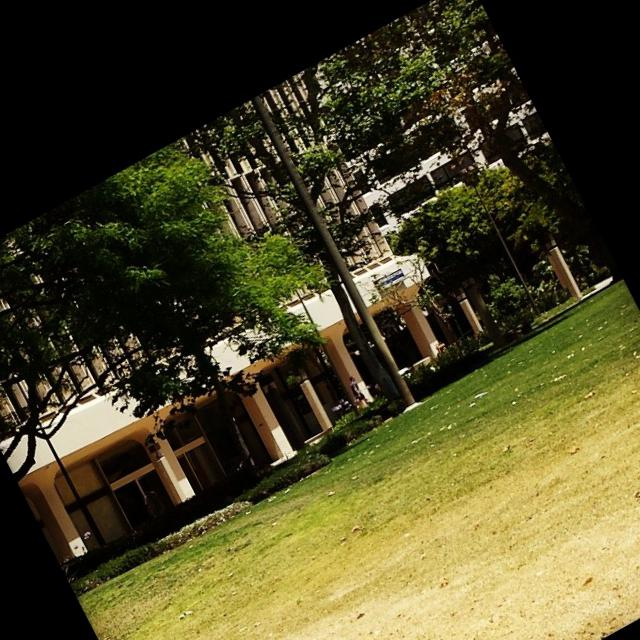patch: (365, 565, 555, 630), (500, 480, 602, 525)
